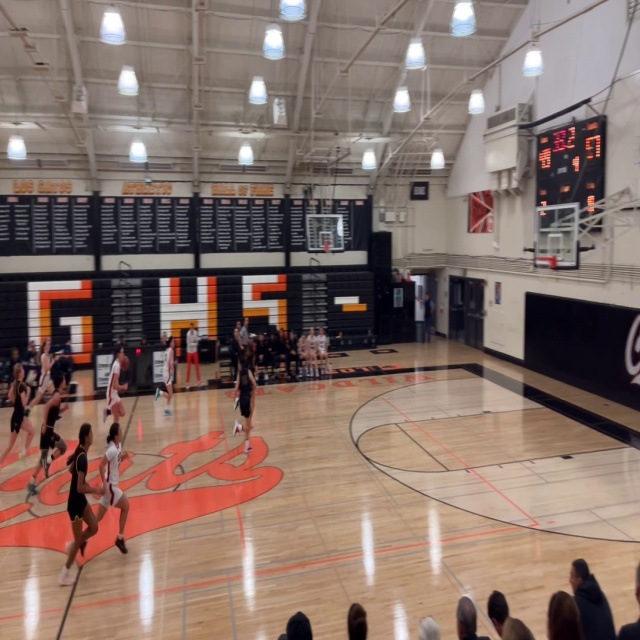Basketball: (119, 356, 130, 370)
